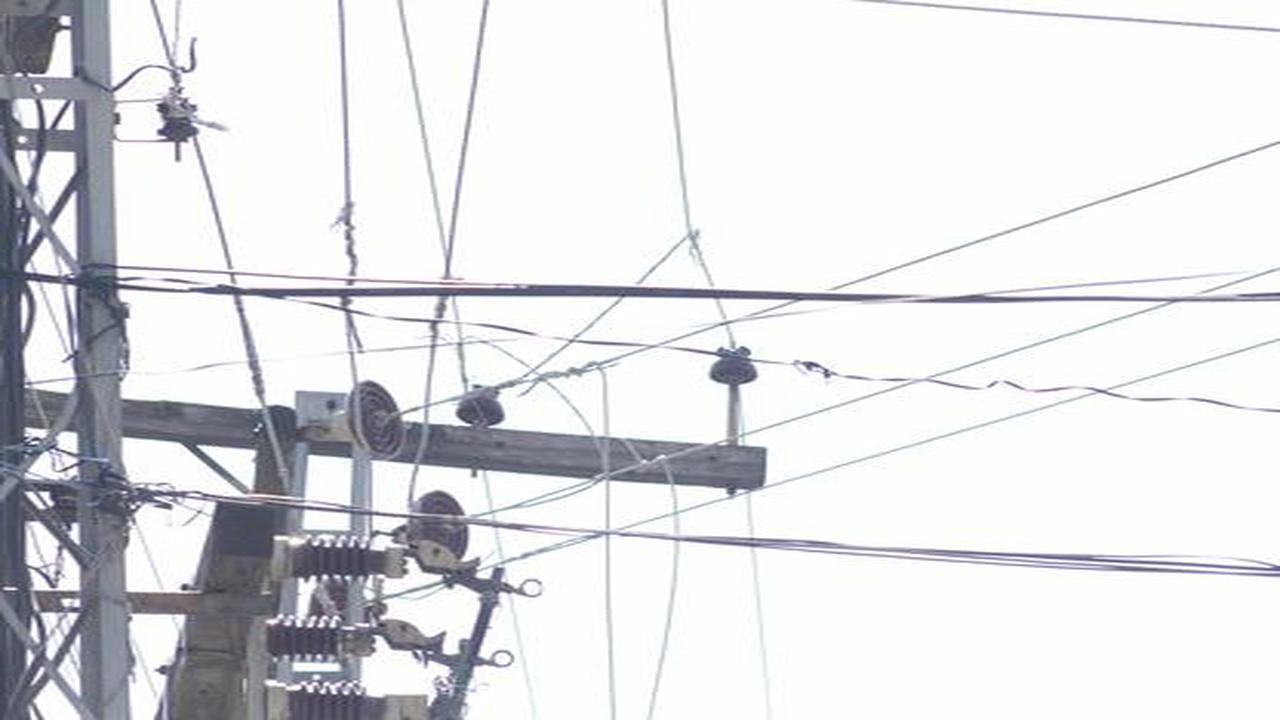insulator_disc: (332, 382, 406, 458), (403, 492, 477, 561)
insulator_pin: (708, 344, 761, 392), (455, 382, 506, 431)
